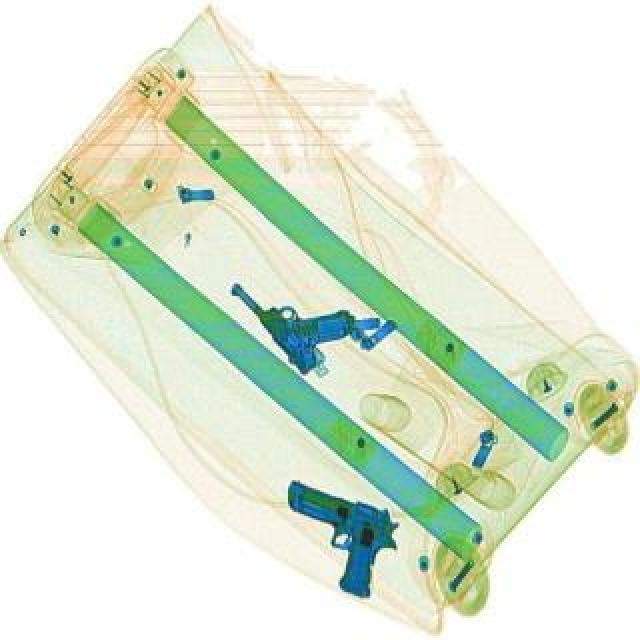gun: (256, 478, 412, 606), (220, 246, 364, 380)
